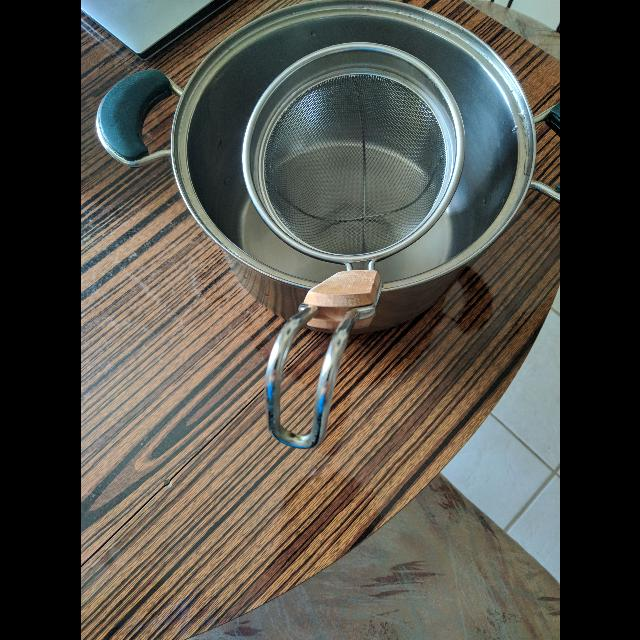Handle: (254, 259, 402, 461)
Strainer: (242, 37, 467, 264)
